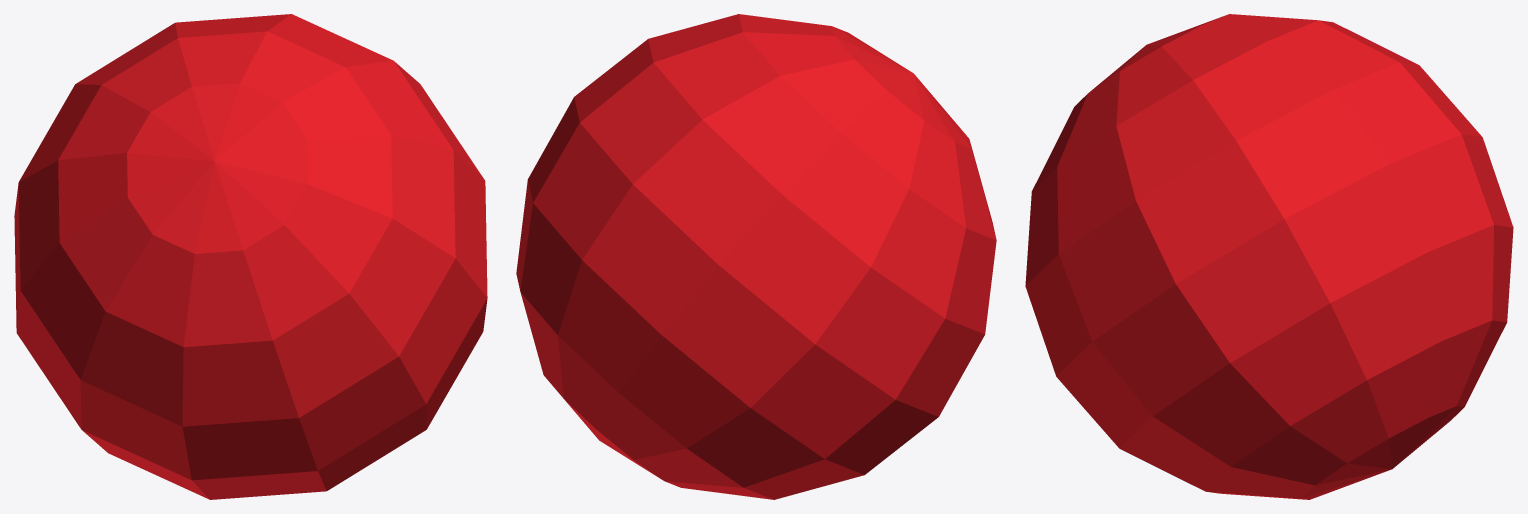
Rendered from redBullet.fbx.
3 views of the same model, side by side, from view 1: azimuth 30°, elevation 25°; view 2: azimuth 150°, elevation 25°; view 3: azimuth 270°, elevation 25° (orthographic).
Visible parts, largest first — view 1: polySurface756; view 2: polySurface756; view 3: polySurface756.
Part boxes in pixels (x1,y1,x2,y2): polySurface756: (14, 14, 487, 499); polySurface756: (516, 14, 996, 499); polySurface756: (1025, 14, 1513, 499).
Size of the model in its own units: 0.1557 by 0.1573 by 0.1561.
